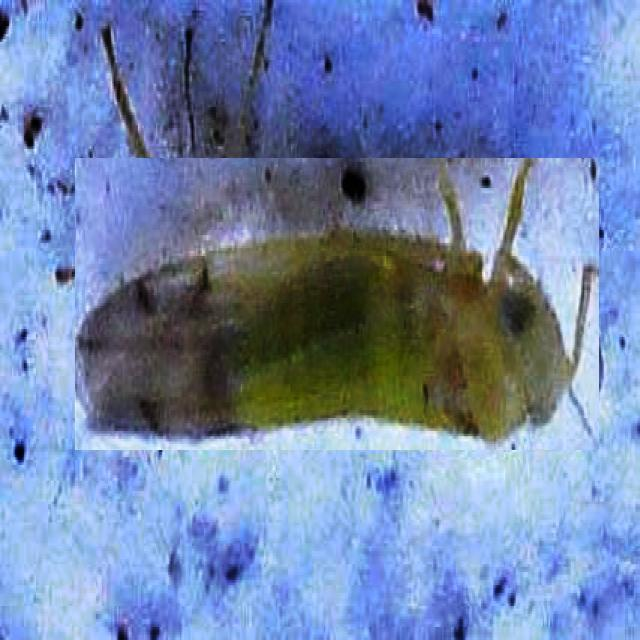green-leafhopper: (75, 158, 599, 450)
